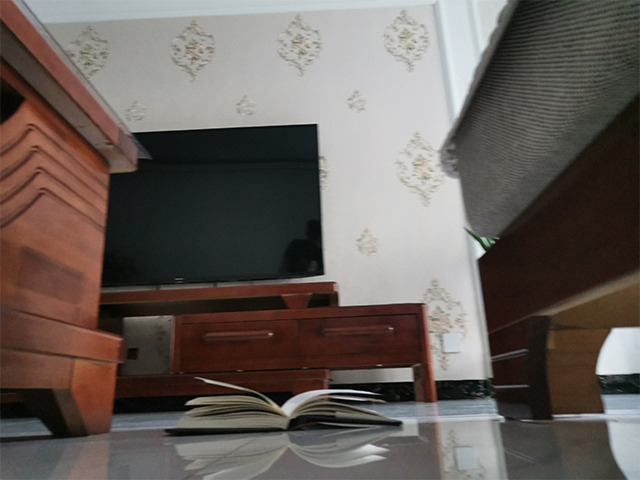book: (159, 374, 404, 438)
cabinet: (94, 279, 437, 409)
sofa: (436, 1, 640, 421), (1, 1, 154, 442)
